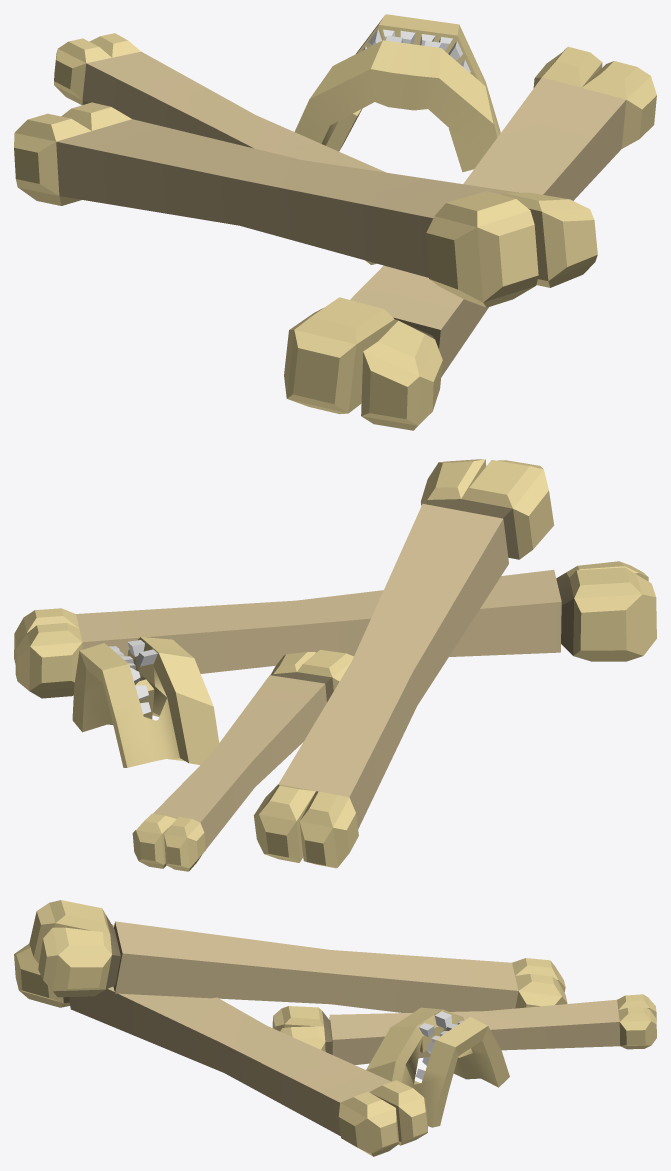
Rendered from esqu6.fbx.
3 views of the same model, one above another, from view 1: azimuth 30°, elevation 25°; view 2: azimuth 150°, elevation 25°; view 3: azimuth 270°, elevation 25° (orthographic). The views are drawn at different scales.
Visible parts, largest first — view 1: Hueso15, Hueso14, Cabeza_Parte_Abajo4, Hueso16; view 2: Hueso15, Hueso14, Hueso16, Cabeza_Parte_Abajo4; view 3: Hueso15, Hueso14, Hueso16, Cabeza_Parte_Abajo4.
Boxes of the visible parts, x1=… form: Hueso15: x1=14, y1=102, x2=597, y2=307; Hueso14: x1=284, y1=46, x2=656, y2=430; Cabeza_Parte_Abajo4: x1=294, y1=14, x2=500, y2=172; Hueso16: x1=54, y1=33, x2=385, y2=264; Hueso15: x1=253, y1=459, x2=554, y2=868; Hueso14: x1=14, y1=561, x2=656, y2=698; Hueso16: x1=132, y1=649, x2=353, y2=871; Cabeza_Parte_Abajo4: x1=72, y1=637, x2=219, y2=767; Hueso15: x1=29, y1=900, x2=567, y2=1012; Hueso14: x1=14, y1=924, x2=427, y2=1156; Hueso16: x1=272, y1=994, x2=656, y2=1064; Cabeza_Parte_Abajo4: x1=366, y1=1007, x2=509, y2=1127.
Bounding box in the file's own units: 3.76 × 1.36 × 5.28.
